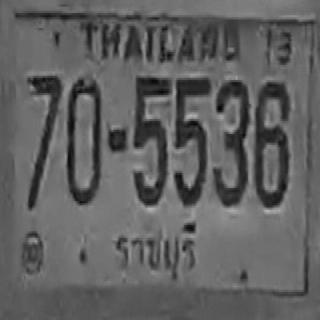N00: (65, 75, 101, 204)
N03: (213, 77, 249, 204)
N05: (133, 74, 170, 203), (174, 75, 210, 204)
N06: (253, 79, 289, 206)
N07: (27, 74, 61, 208)
P52: (112, 215, 201, 283)
